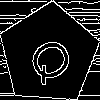Q: (24, 29, 84, 88)
